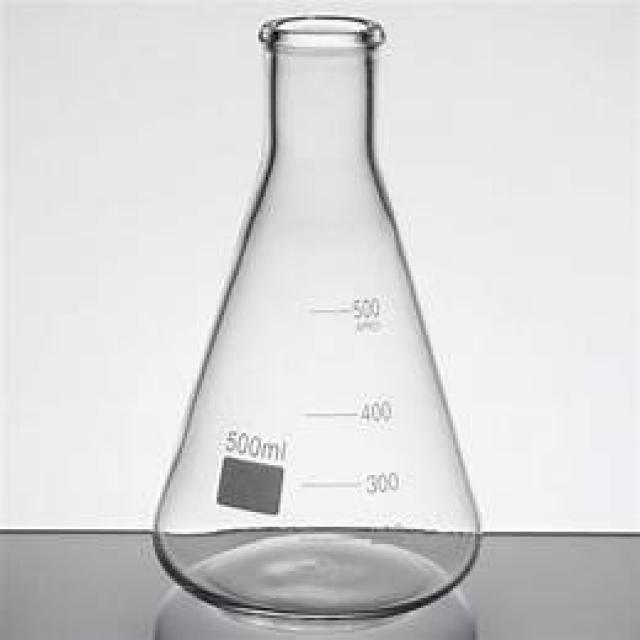Titrarion: (148, 22, 487, 621)
